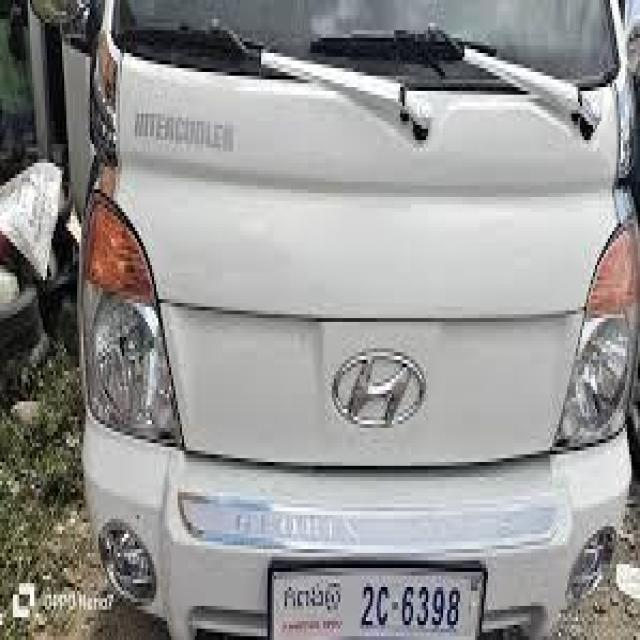Kampong_Speu: (283, 580, 342, 615)
